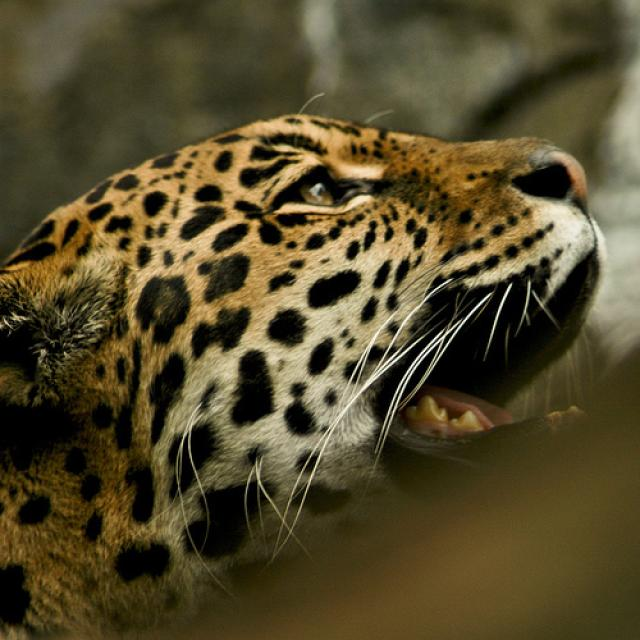Leopard: (0, 110, 604, 636)
